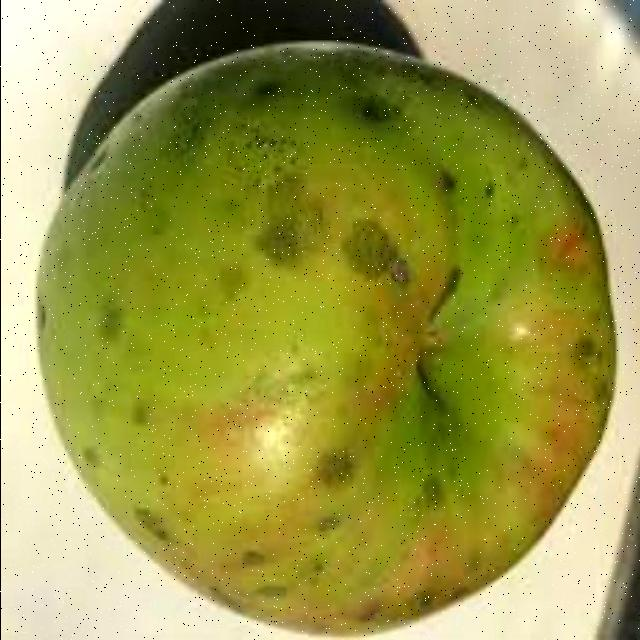BLOTCH: (25, 28, 622, 624)
